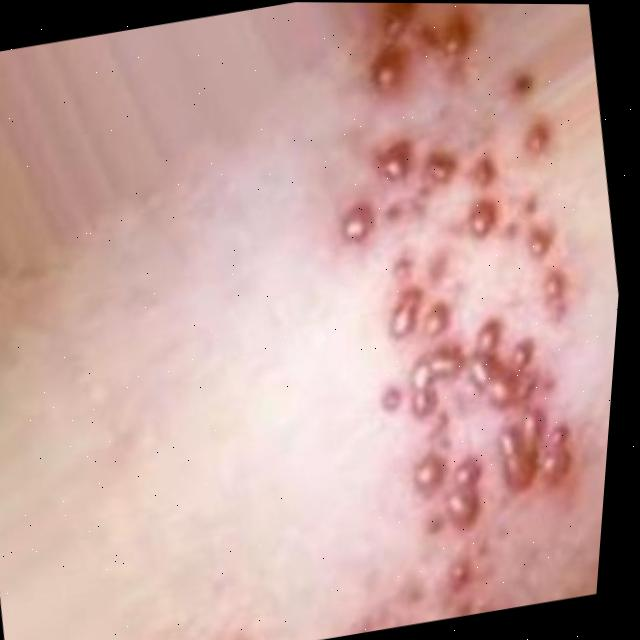Shingles: (268, 2, 640, 631)
